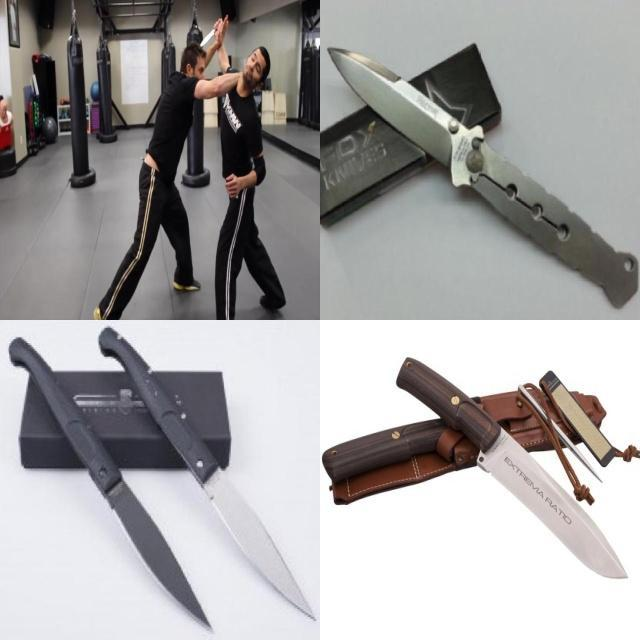-: (479, 428, 630, 582), (204, 462, 319, 634), (322, 39, 464, 172), (106, 479, 212, 632), (198, 15, 223, 47)
